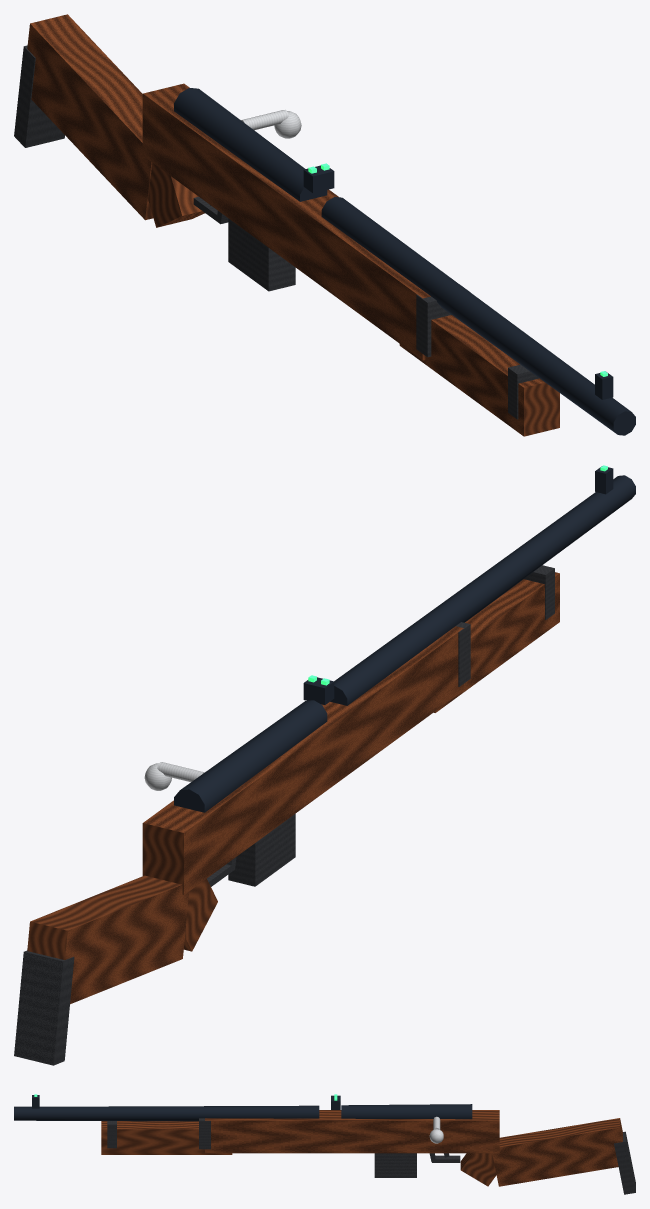
Rendered from kar98k.glb.
The picture shows the model from 3 angles, top to bottom: view 1: azimuth 30°, elevation 25°; view 2: azimuth 150°, elevation 25°; view 3: azimuth 270°, elevation 25°; orthographic projection. The views are drawn at different scales.
Parts seen in each view (by area): view 1: weapon_kar98k, MagazineNode, BoltHandleNode; view 2: weapon_kar98k, MagazineNode, BoltHandleNode; view 3: weapon_kar98k, MagazineNode, BoltHandleNode.
Boxes of the visible parts, x1,y1,x2,y2 form: weapon_kar98k: (14,14,635,436); MagazineNode: (228,218,295,291); BoltHandleNode: (241,109,301,138); weapon_kar98k: (14,465,635,1065); MagazineNode: (228,814,295,886); BoltHandleNode: (144,762,204,790); weapon_kar98k: (14,1094,635,1194); MagazineNode: (374,1153,416,1177); BoltHandleNode: (429,1116,443,1143).
Size of the model in its own units: 0.1095 by 0.1916 by 1.14.
5 materials, 3 textured.
